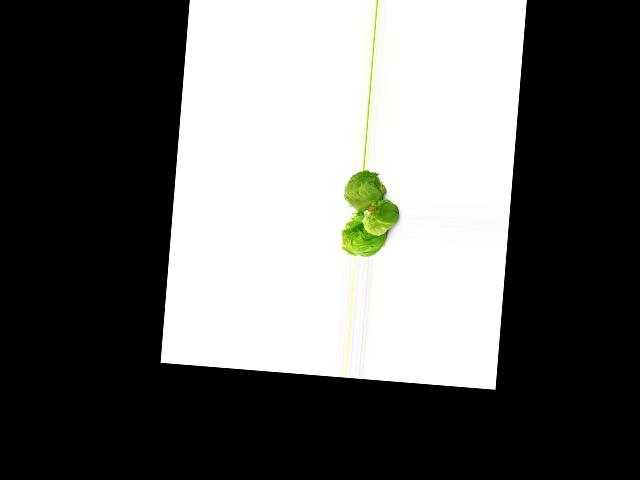lettuce: (342, 216, 385, 256)
